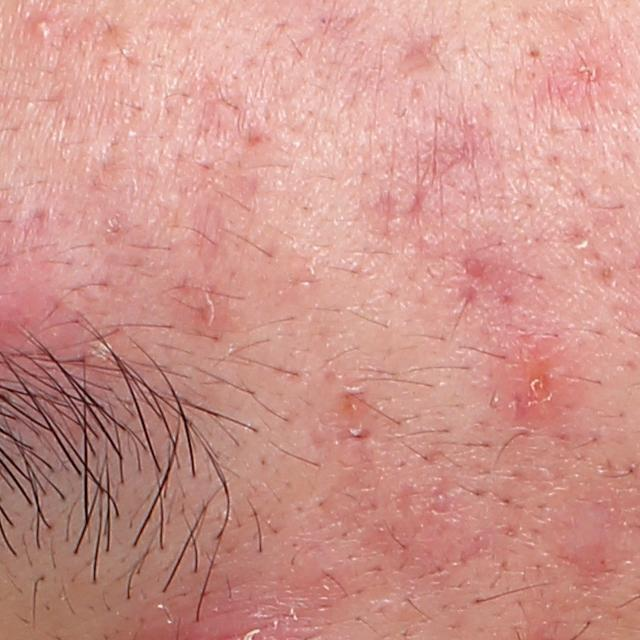atrophic_scar: (396, 28, 447, 72), (403, 185, 427, 224)
comedo: (525, 44, 543, 60)
pustule: (30, 14, 53, 44)
